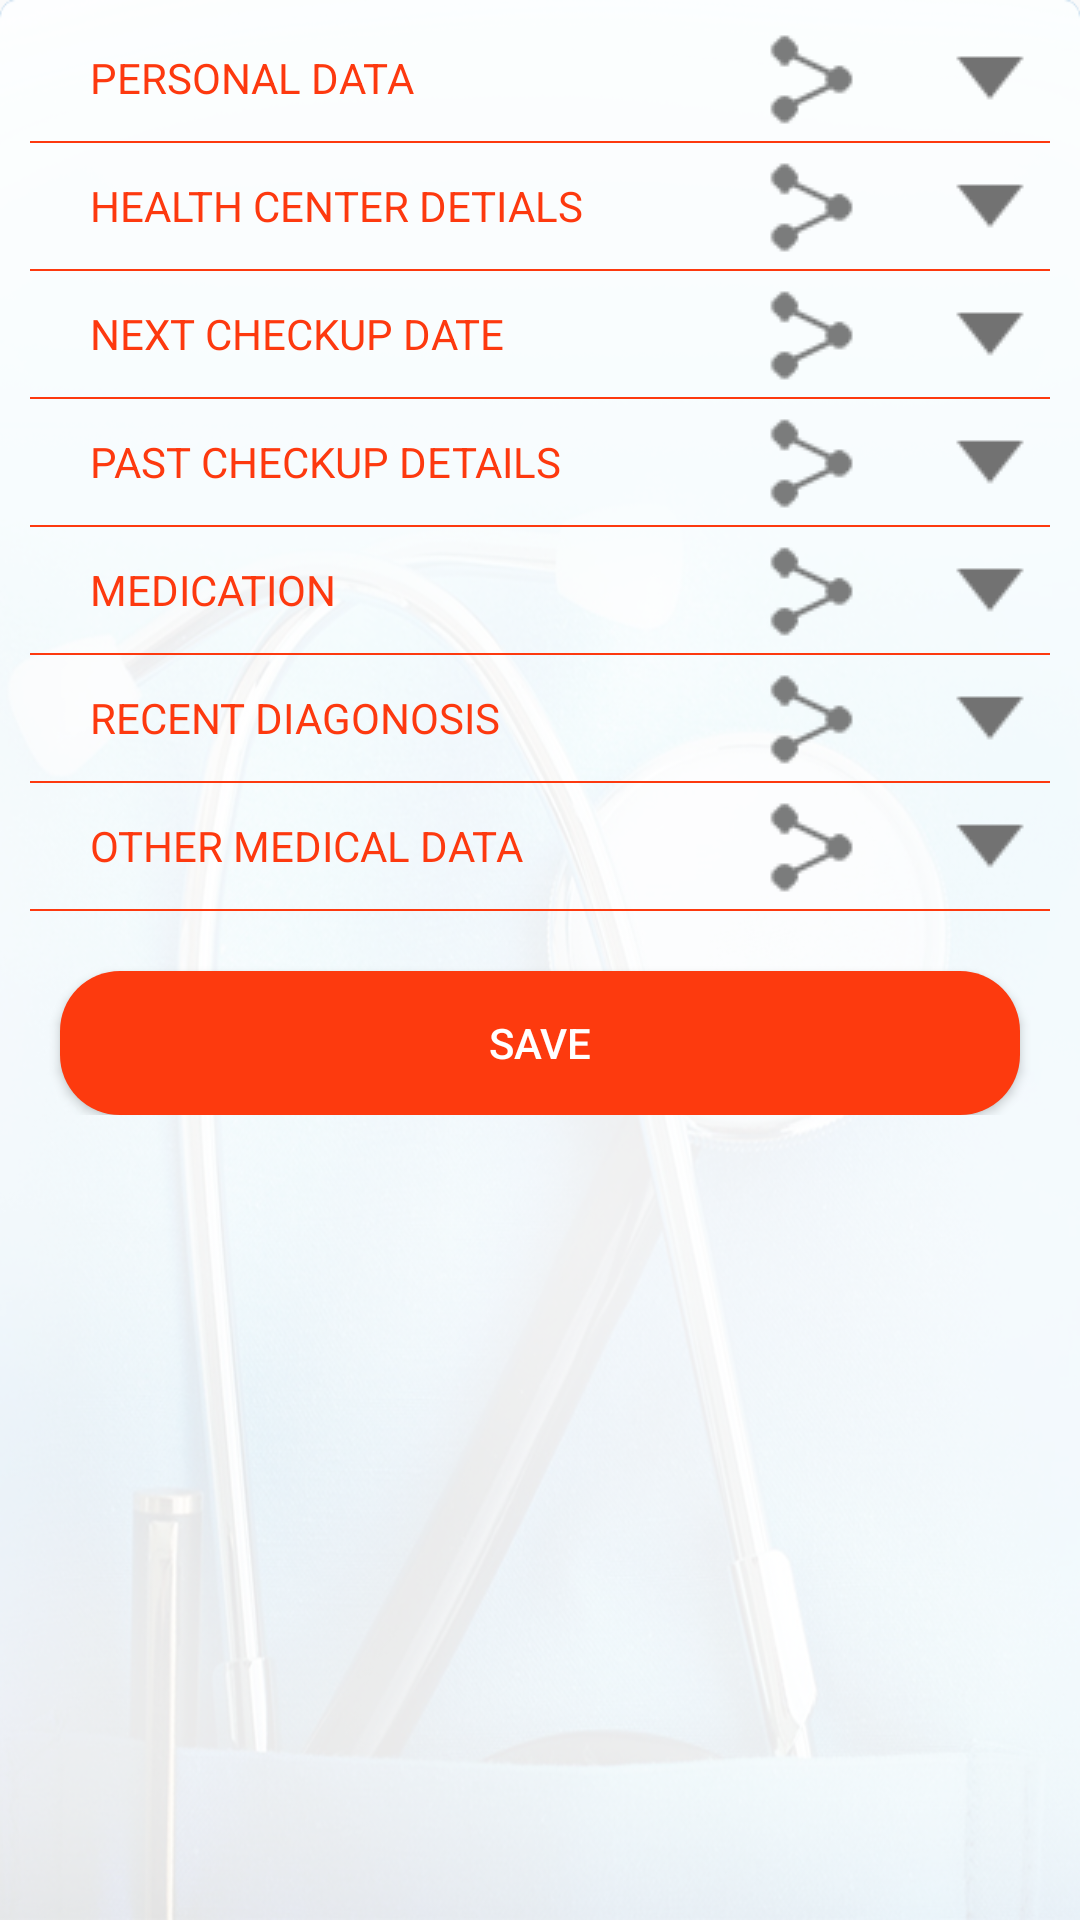

Named icons in this screenshot (1080×1920) and their centers, [x,y]:
downarrow: [990,77], [990,205], [990,333], [990,461], [990,589], [990,717], [990,845]
share: [811,79], [811,207], [811,335], [811,463], [811,591], [811,719], [811,847]
